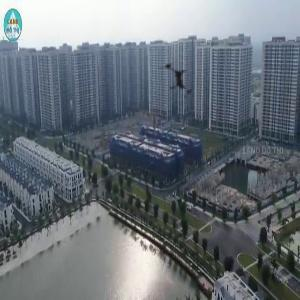drone: (145, 48, 214, 117)
